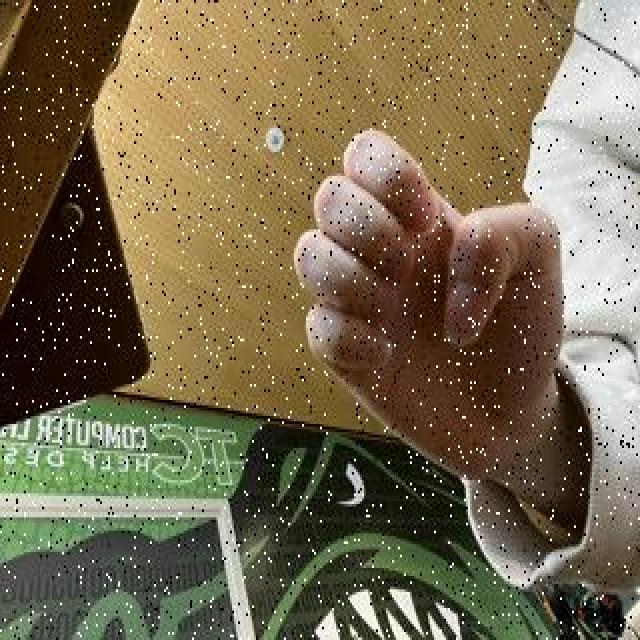E: (266, 80, 580, 541)
